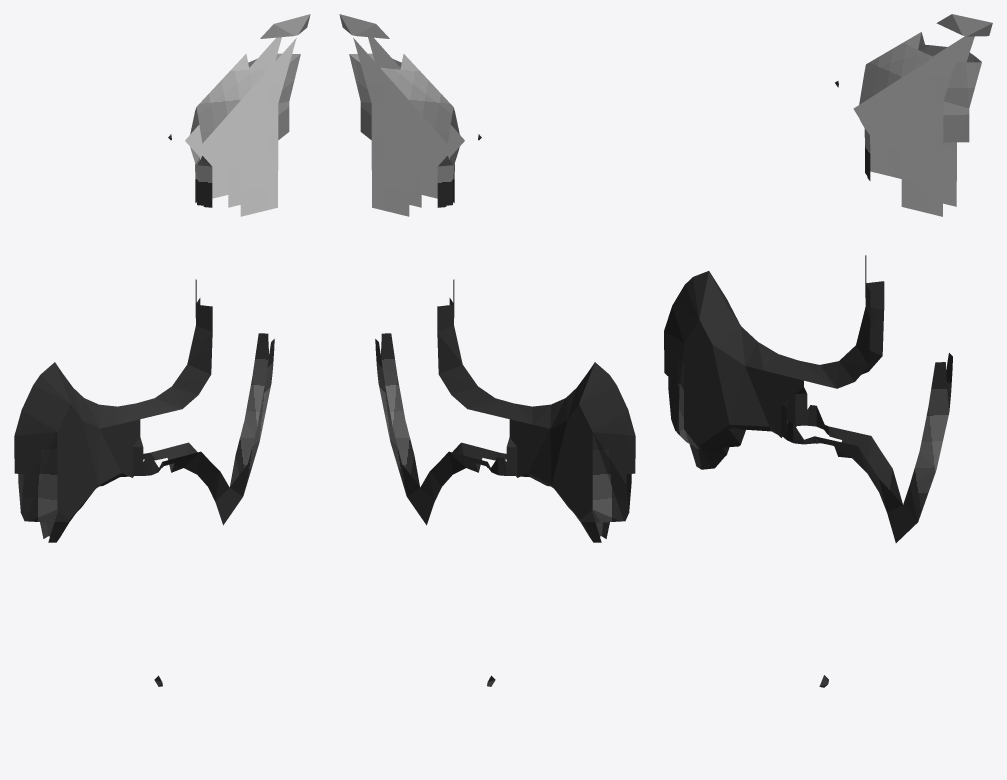
File: reticence.obj
3 views of the same model, side by side, from view 1: azimuth 30°, elevation 25°; view 2: azimuth 150°, elevation 25°; view 3: azimuth 330°, elevation 25° (orthographic). The views are drawn at different scales.
Size of the model in its own units: 59.14 by 136 by 14.33.
